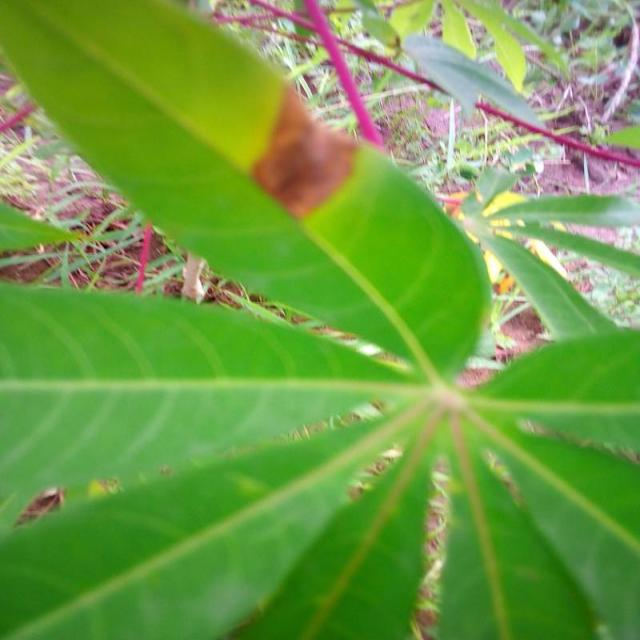cassava leaf: (2, 0, 639, 639), (2, 0, 494, 384)
